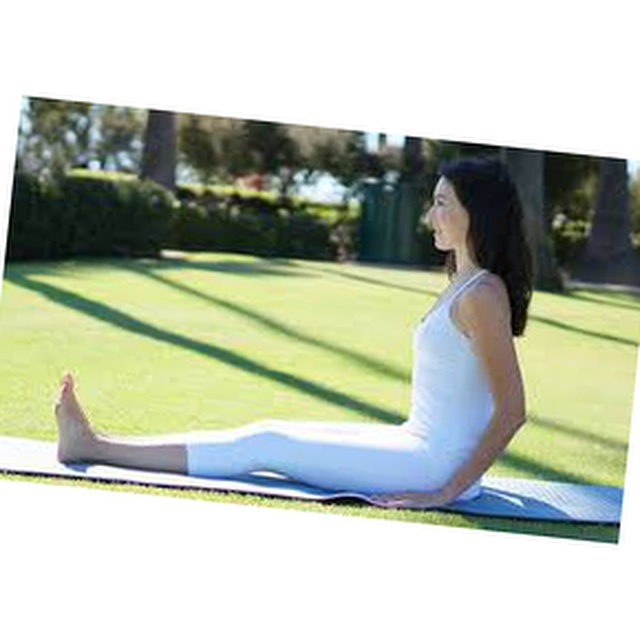Staff_Pose: (52, 155, 534, 510)
